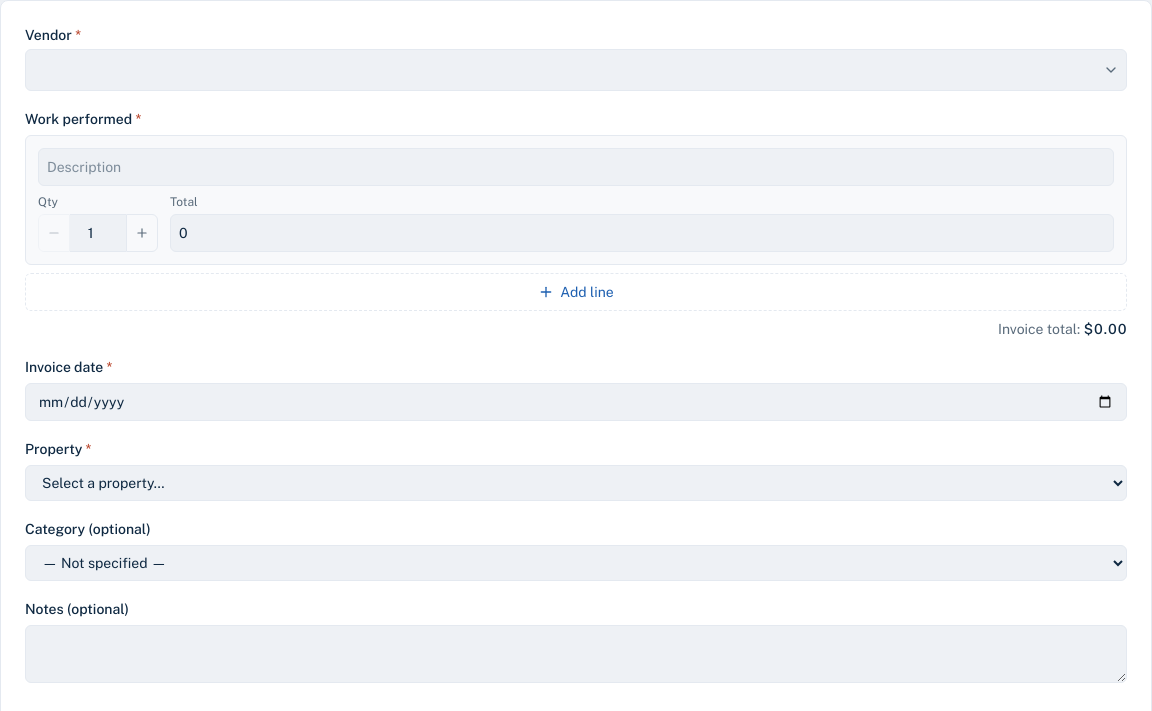
Test case: InvoiceForm › vendor picker › closes on Escape without clearing what was typed
Type "Ace" into the dropdown labelled "Vendor *" at (576, 70), box [25, 49, 1127, 91]
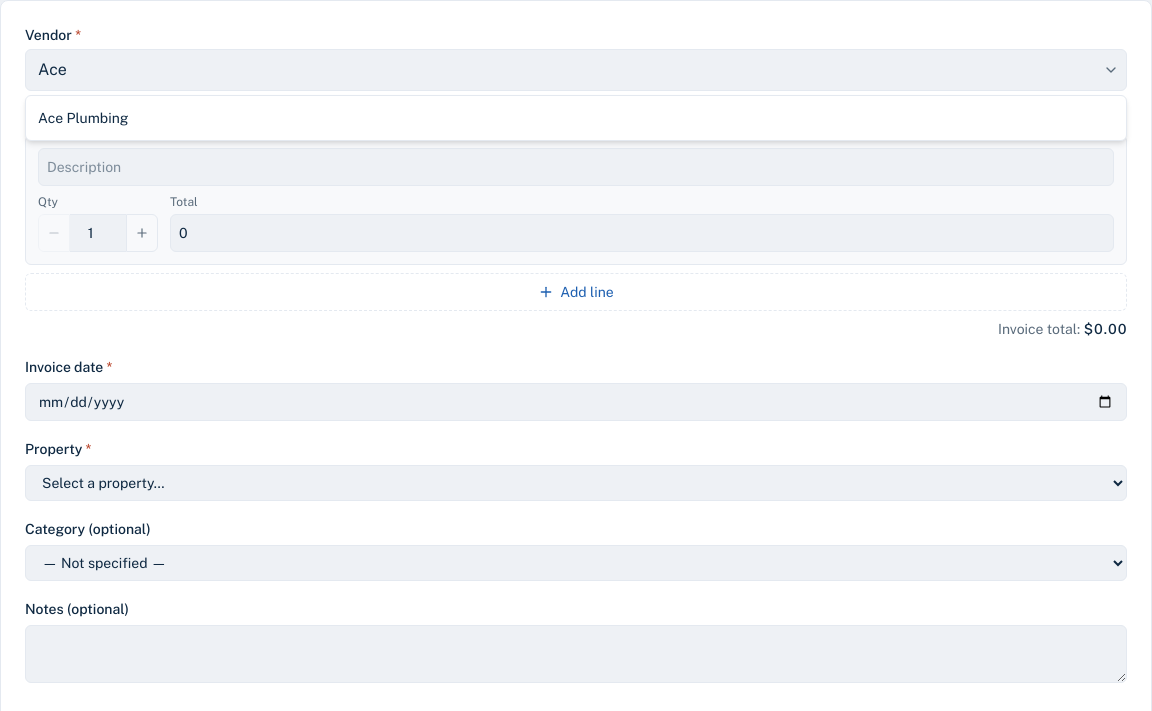
Press Escape in the dropdown labelled "Vendor *", box [25, 49, 1127, 91]
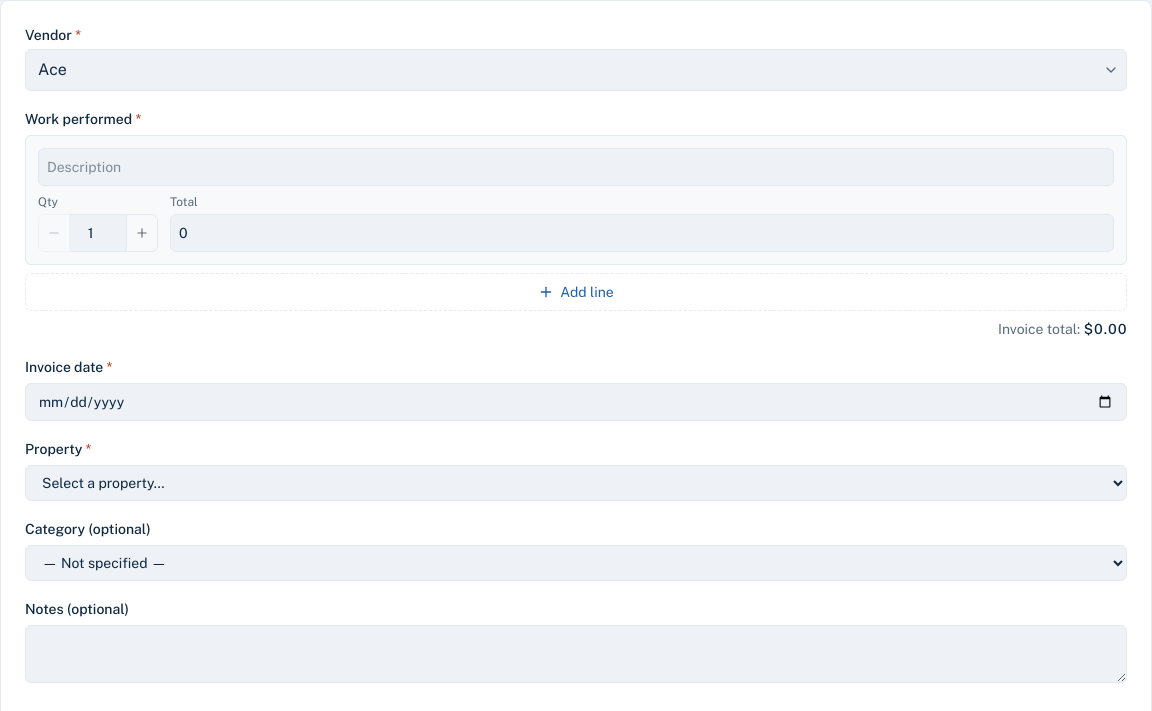
Expected: the list is gone
